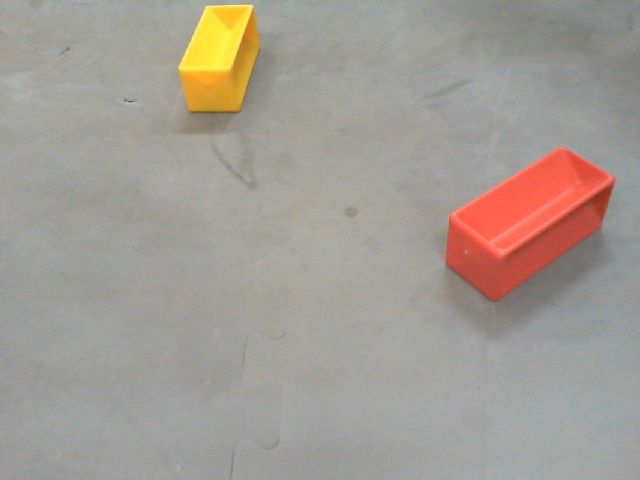RedSample: (443, 144, 620, 300)
YellowSample: (179, 4, 260, 114)
